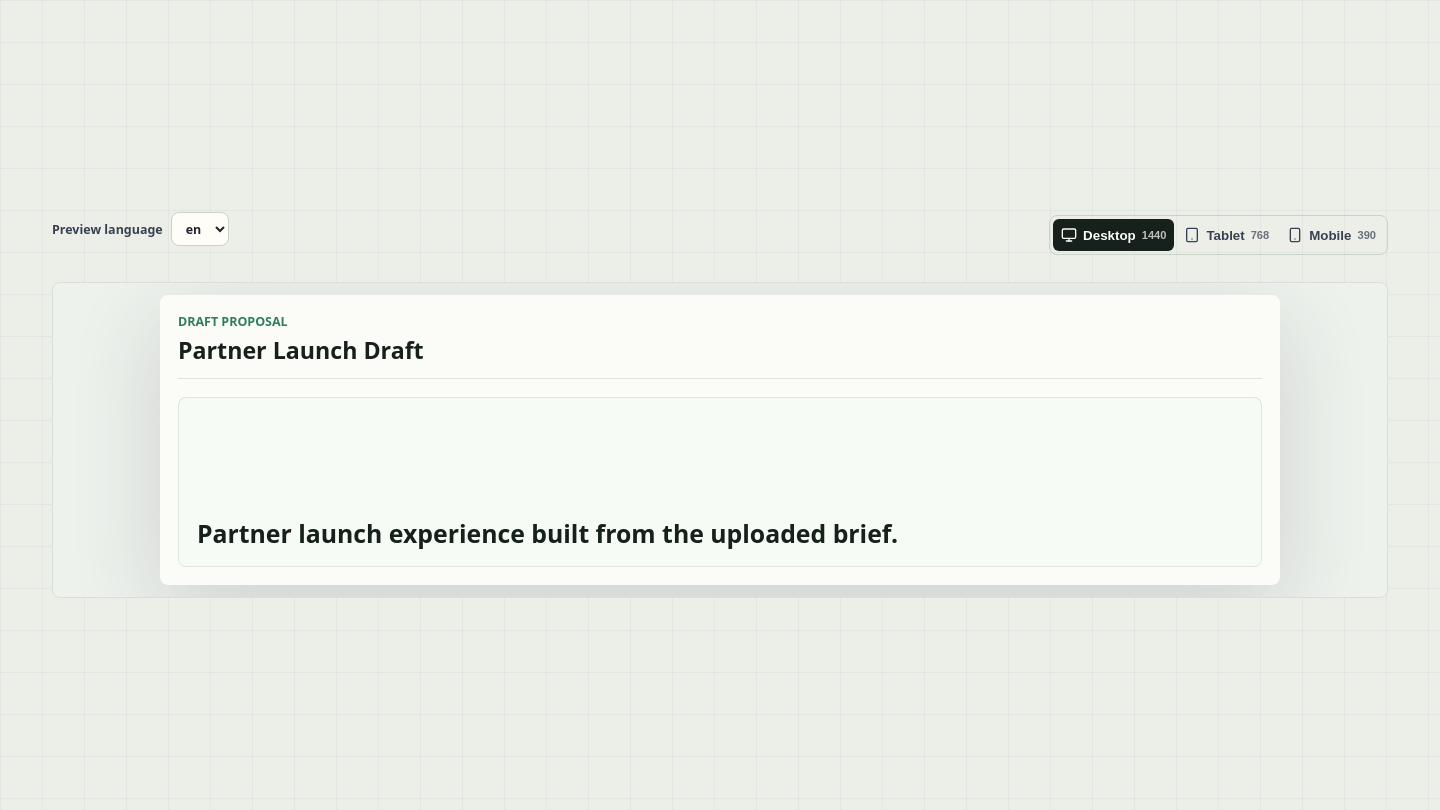
Test: authenticated draft preview route › lets signed-in users switch draft preview language from the standalone preview page
Select "fr" in the dropdown labelled "Preview language" at (200, 229), box left=171, top=212, right=229, bottom=246
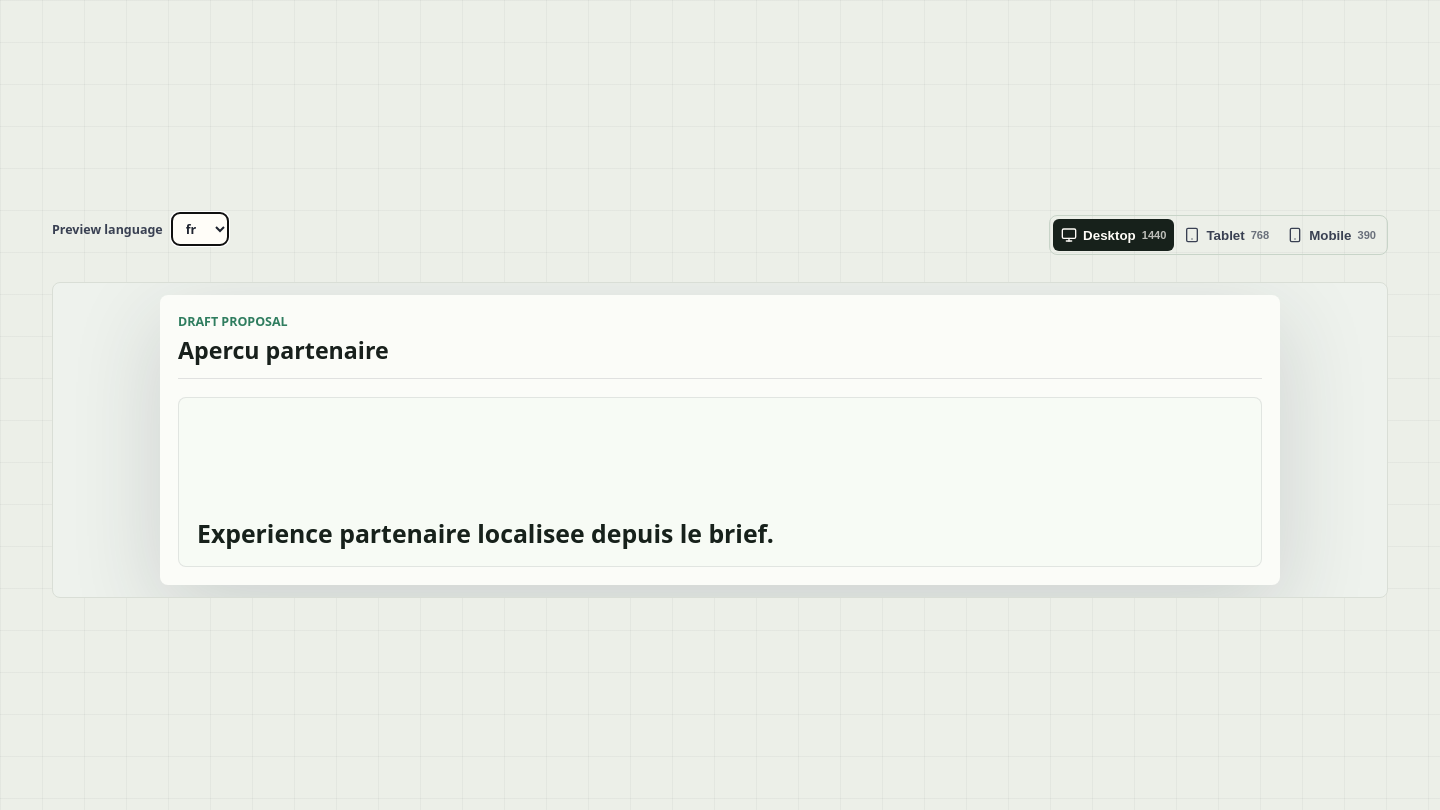
Check: the heading "Apercu partenaire" is shown, box left=178, top=334, right=389, bottom=366
Check: the text "Experience partenaire localisee depuis le brief." is shown, box left=197, top=520, right=774, bottom=548
